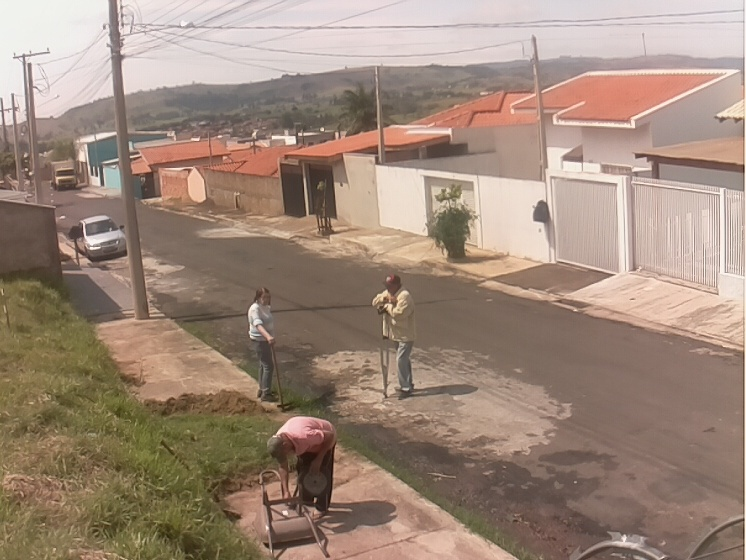person: (266, 415, 336, 519), (371, 275, 416, 396), (247, 286, 283, 403)
